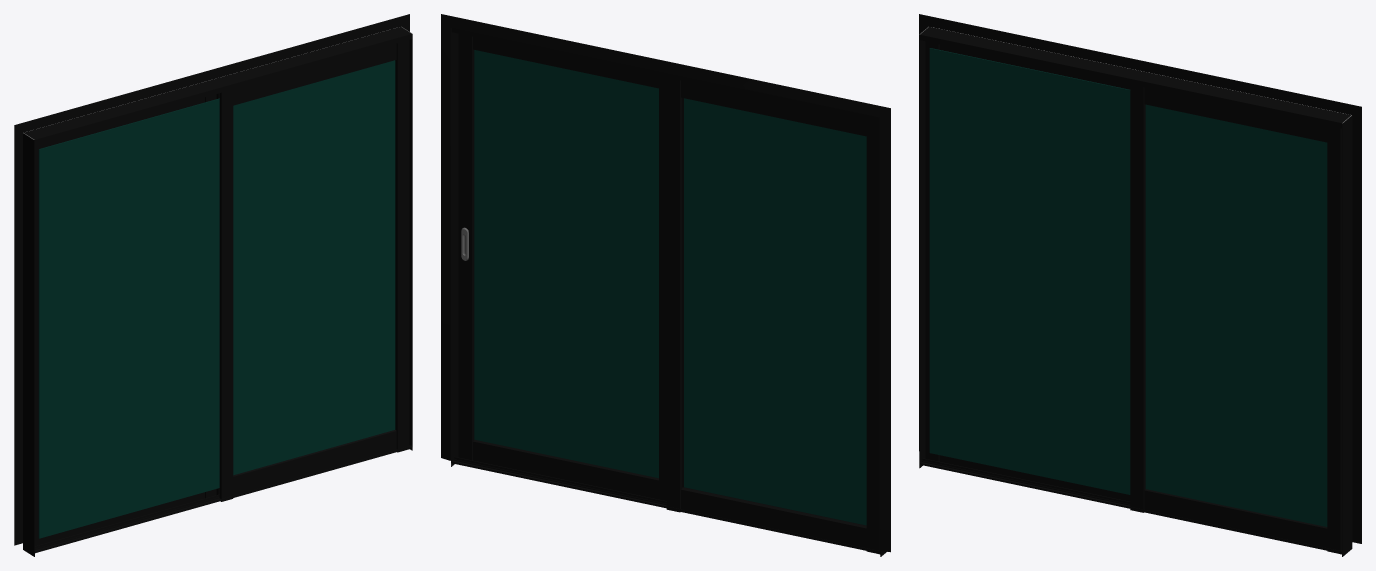
File: uploads_files_6101185_sling+door.fbx
3 renders of one model, left to right at view 1: azimuth 30°, elevation 25°; view 2: azimuth 150°, elevation 25°; view 3: azimuth 330°, elevation 25°, orthographic. The views are drawn at different scales.
Parts seen in each view (by area): view 1: GLASSS1313, Extrude120, Extrude_847, outframe120, Extrude_844, Extrude_848, Extrude_846, Extrude_845, Extrude_842; view 2: GLASSS1313, outframe120, Extrude_845, Extrude120, Extrude_846, Extrude_844, Extrude_847, Extrude_842; view 3: GLASSS1313, Extrude120, outframe120, Extrude_847, Extrude_844, Extrude_842, Extrude_848, Extrude_846, Extrude_845.
Boxes of the visible parts, x1,y1,x2,y2 form: GLASSS1313: (38, 60, 395, 538); Extrude120: (216, 40, 409, 501); Extrude_847: (24, 26, 412, 553); outframe120: (14, 14, 409, 545); Extrude_844: (233, 43, 396, 497); Extrude_848: (23, 133, 34, 556); Extrude_846: (41, 97, 204, 543); Extrude_845: (35, 94, 216, 545); Extrude_842: (409, 34, 412, 450); GLASSS1313: (474, 50, 866, 525); outframe120: (441, 14, 890, 552); Extrude_845: (666, 77, 880, 554); Extrude120: (458, 34, 666, 500); Extrude_846: (681, 80, 866, 550); Extrude_844: (473, 37, 658, 499); Extrude_847: (451, 28, 880, 552); Extrude_842: (451, 32, 458, 466); GLASSS1313: (929, 48, 1327, 526); Extrude120: (1130, 84, 1341, 553); outframe120: (919, 14, 1361, 543); Extrude_847: (920, 26, 1350, 552); Extrude_844: (1144, 87, 1327, 550); Extrude_842: (1340, 115, 1352, 556); Extrude_848: (919, 34, 925, 468); Extrude_846: (939, 44, 1122, 499); Extrude_845: (925, 41, 1130, 501).
Size of the model in its own units: 264 by 262 by 28.49.
